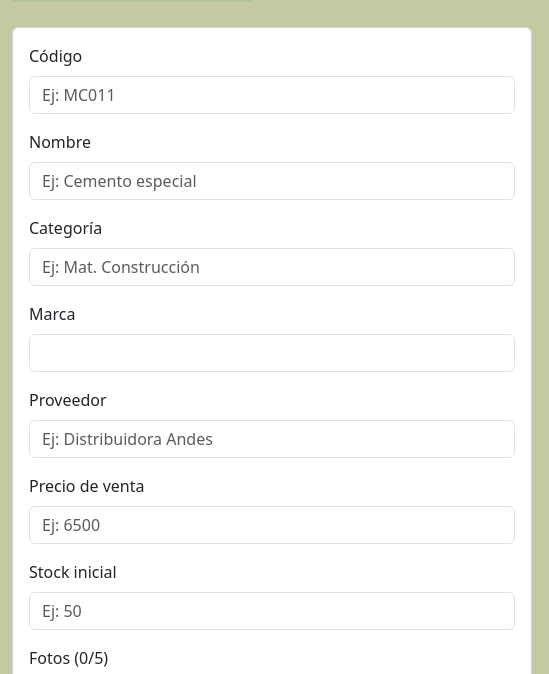
Test: product admin panels › AddProductPanel › requires at least one photo
The image size is (549, 674).
Type "MC011" into the field labelled "Código" at coordinates (272, 94), box x1=29 y1=76 x2=515 y2=114
Type "Cemento especial" into the field labelled "Nombre" at coordinates (272, 180), box x1=29 y1=162 x2=515 y2=200
Type "Mat. Construcción" into the field labelled "Categoría" at coordinates (272, 266), box x1=29 y1=248 x2=515 y2=286
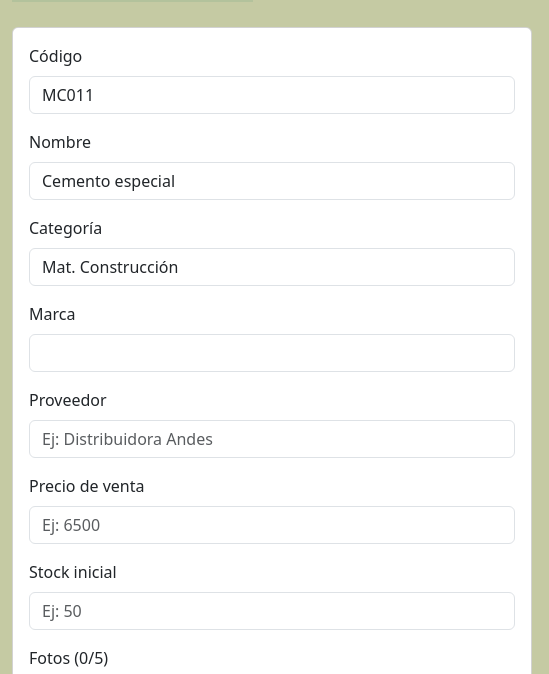
Type "Polpaico" into the field labelled "Marca" at coordinates (272, 352), box x1=29 y1=334 x2=515 y2=372
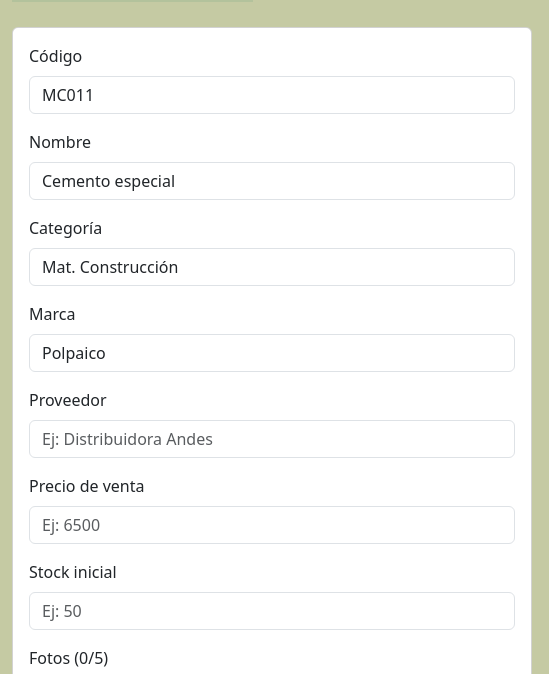
Type "Distribuidora Andes" into the field labelled "Proveedor" at coordinates (272, 438), box x1=29 y1=420 x2=515 y2=458
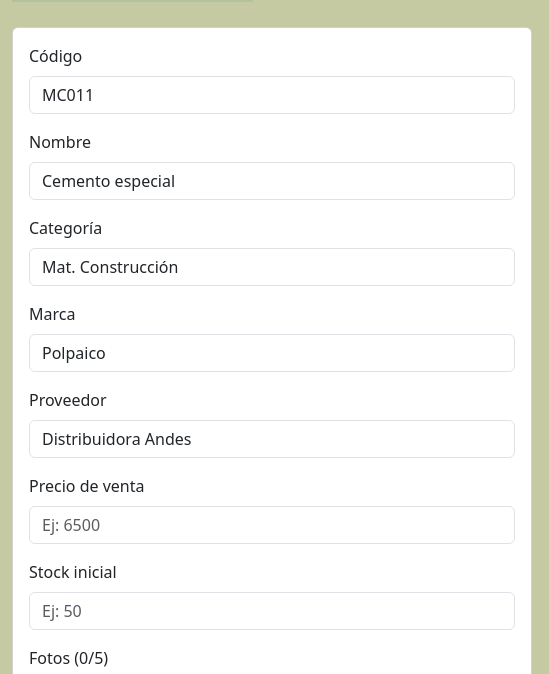
Type "6500" into the number field labelled "Precio de venta" at coordinates (272, 524), box x1=29 y1=506 x2=515 y2=544
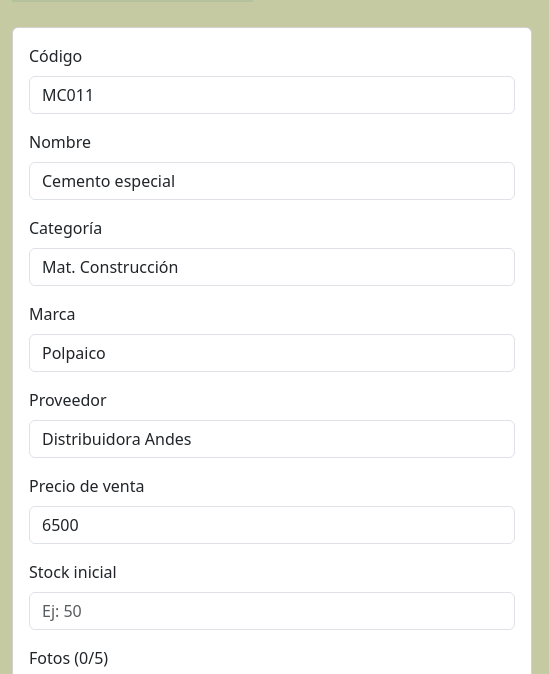
Type "50" into the number field labelled "Stock inicial" at coordinates (272, 610), box x1=29 y1=592 x2=515 y2=630
(page scrolled)
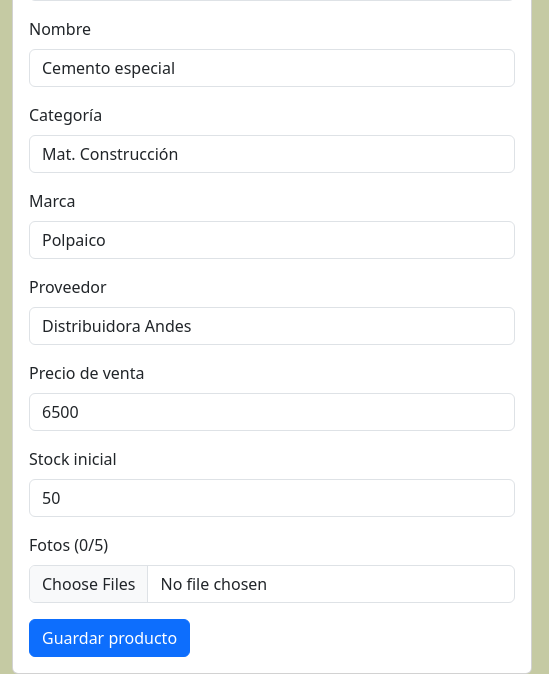
Click the button "Guardar producto" at coordinates (110, 638), box x1=29 y1=618 x2=190 y2=656
(page scrolled)
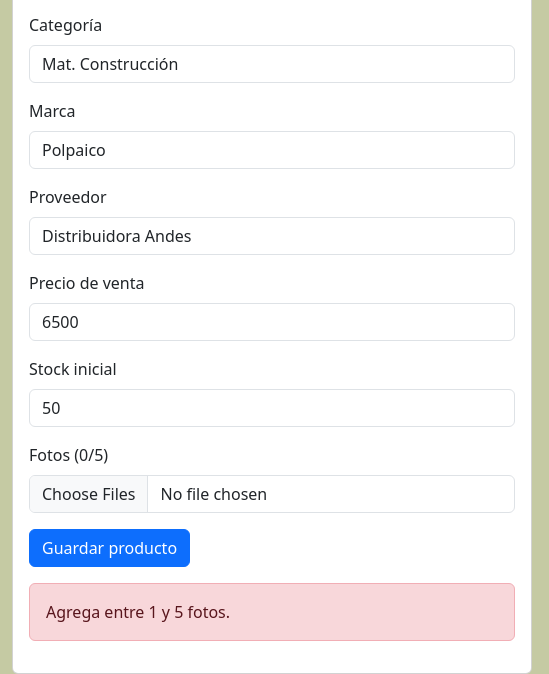
Result: the text "Agrega entre 1 y 5 fotos." is shown at x1=29 y1=582 x2=515 y2=640
